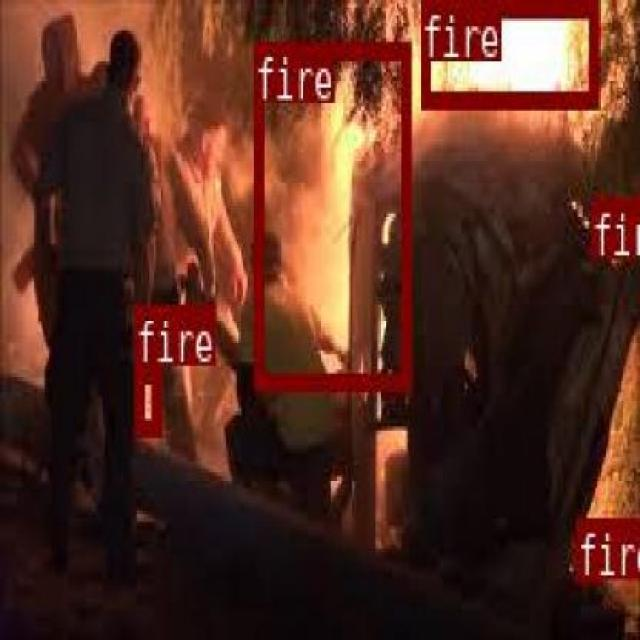fire: (252, 39, 408, 387), (418, 0, 596, 103), (590, 195, 622, 252), (134, 364, 158, 434), (574, 516, 600, 578)
